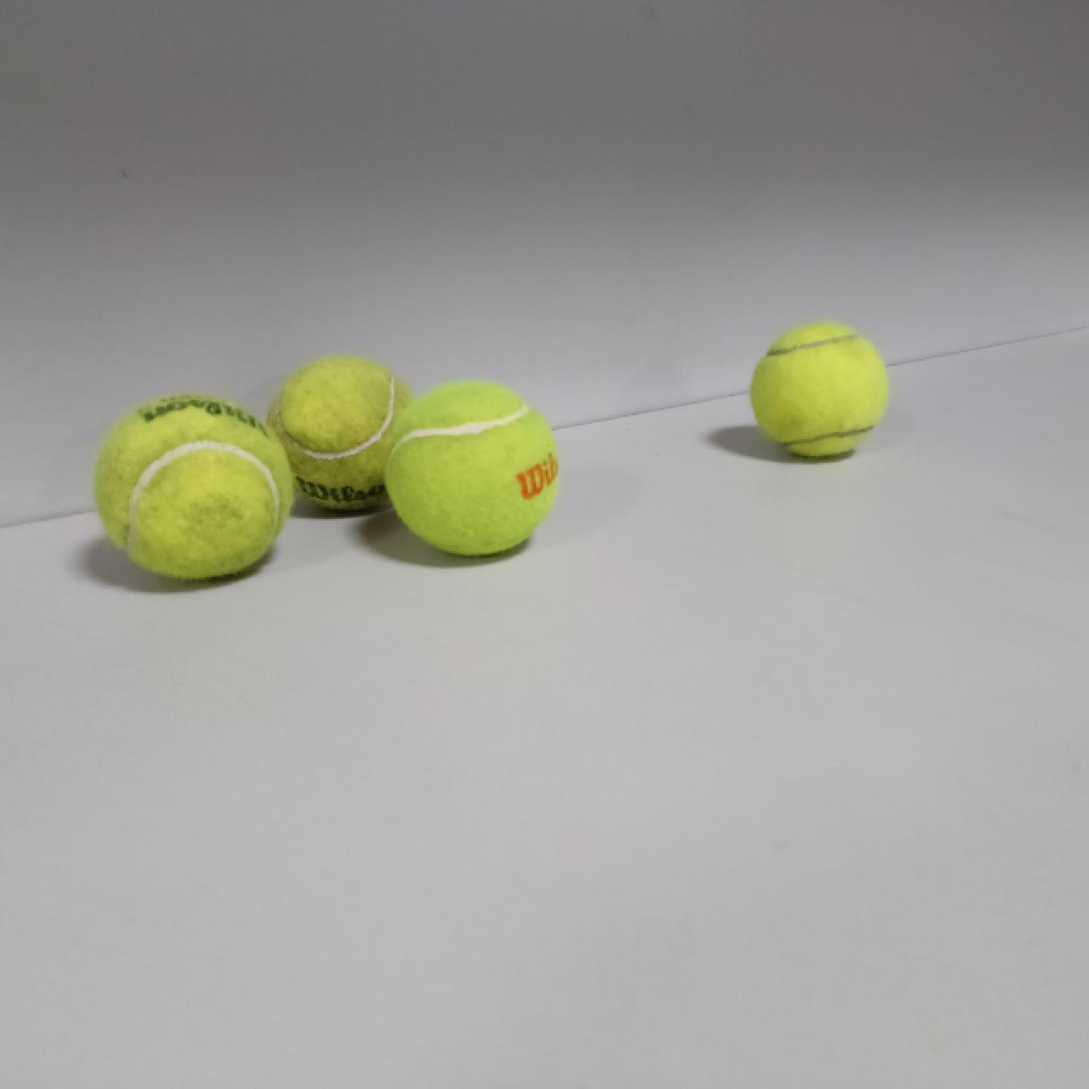tennis-ball: (91, 390, 296, 586), (384, 374, 565, 560), (268, 353, 416, 513), (750, 320, 889, 463)
